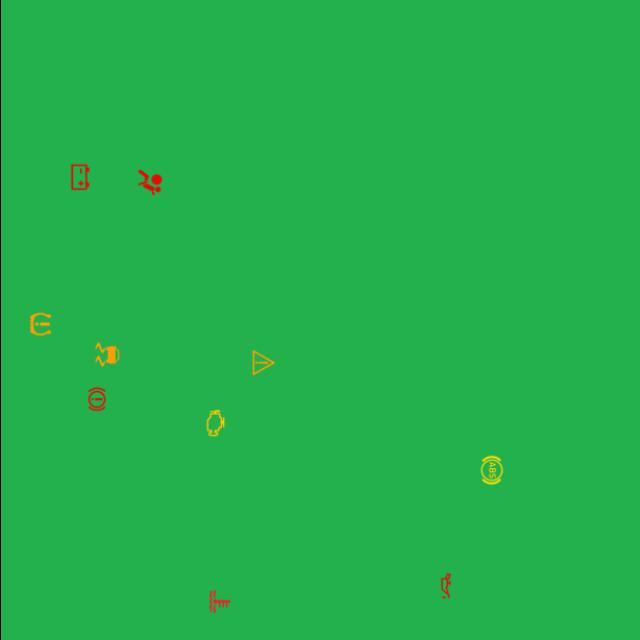Anti Lock Braking System: (475, 454, 507, 486)
Braking System Issue: (80, 383, 112, 415)
Charging System Issue: (63, 161, 95, 193)
Check Engine: (198, 407, 230, 439)
Electronic Stability Problem -ESP-: (90, 338, 122, 371)
Engine Overheating Warning Light: (203, 586, 235, 618)
Low Engine Oil Warning Light: (429, 570, 461, 602)
Low Tire Pressure Warning Light: (24, 308, 56, 340)
Master warning light: (246, 346, 278, 378)
SRS-Airbag: (133, 166, 165, 198)
